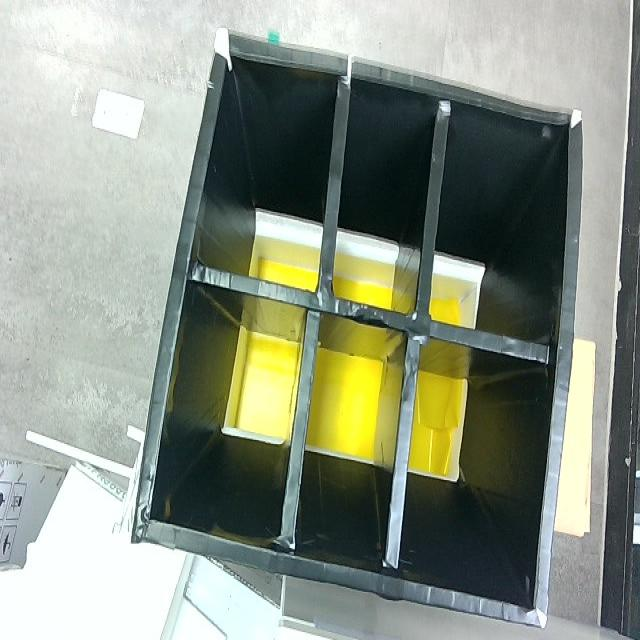box: (119, 27, 592, 630)
